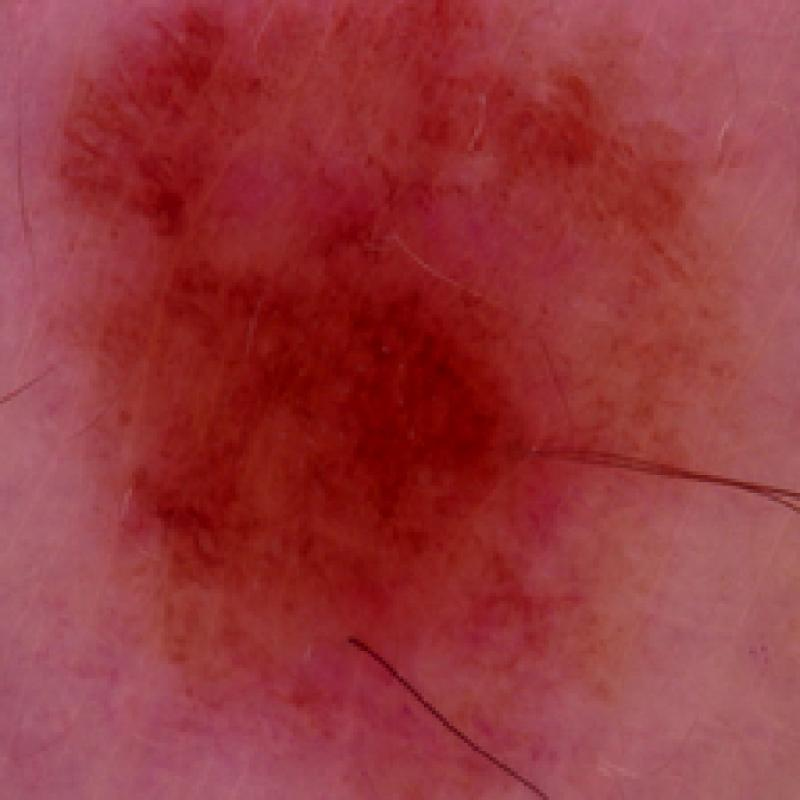benign: (63, 13, 722, 460), (72, 247, 524, 651)
